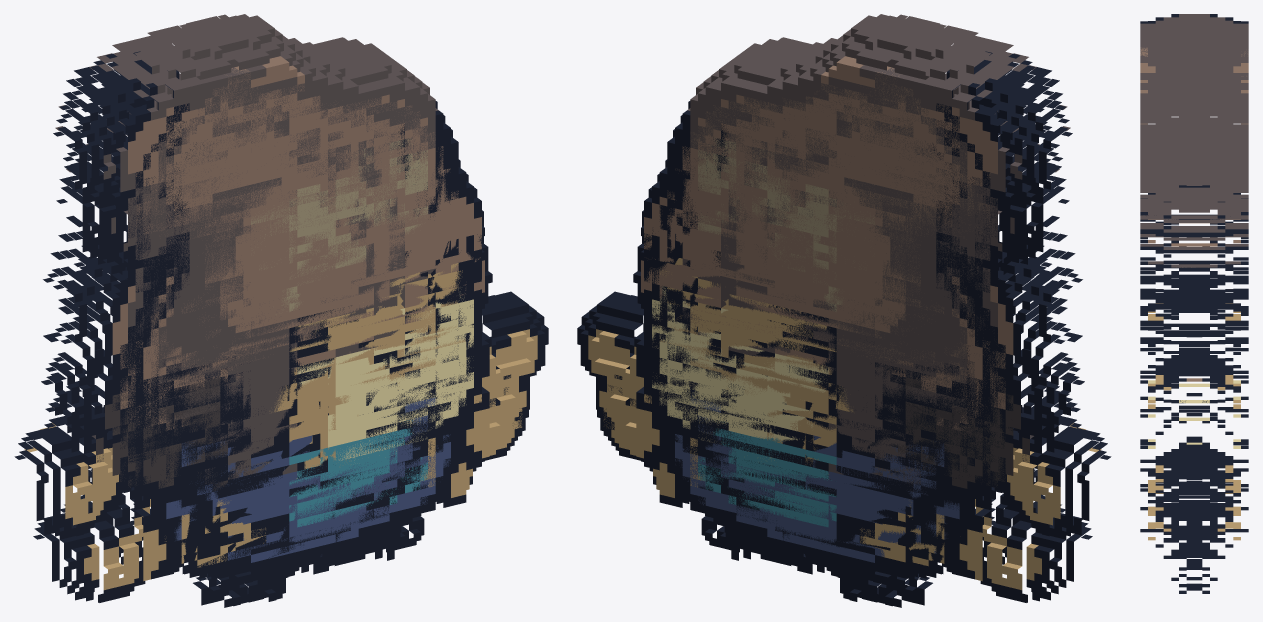
Rendered from aldeao_correndo.glb.
3 views of the same model, side by side, from view 1: azimuth 30°, elevation 25°; view 2: azimuth 150°, elevation 25°; view 3: azimuth 270°, elevation 25° (orthographic). The views are drawn at different scales.
Parts seen in each view (by area): view 1: q0, q1, q2, q4, q3, q5; view 2: q0, q1, q2, q4, q3, q5; view 3: q1, q0, q2, q4, q3, q5.
Boxes of the visible parts, x1,y1,x2,y2 form: q0: (72,39,529,599); q1: (14,14,548,536); q2: (33,85,528,602); q4: (41,23,443,538); q3: (56,50,450,607); q5: (45,100,476,595); q0: (596,39,1053,599); q1: (577,14,1111,536); q2: (597,85,1092,602); q4: (682,23,1084,538); q3: (675,50,1069,607); q5: (649,100,1080,596); q1: (1140,36,1248,548); q0: (1140,56,1248,557); q2: (1140,70,1248,549); q4: (1140,14,1248,568); q3: (1140,56,1248,590); q5: (1140,103,1248,593).
Bounding box in the file's own units: 66 × 71 × 14.
1 material, 1 textured.
